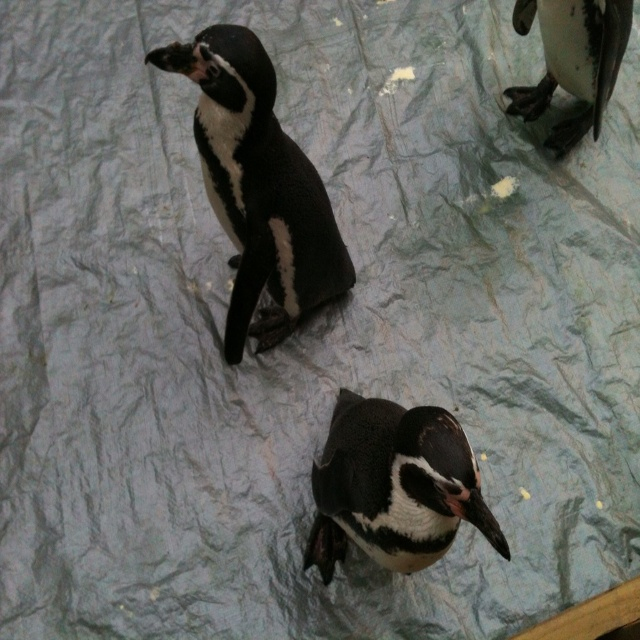Penguin: (143, 23, 353, 362), (297, 394, 503, 580), (507, 0, 636, 160)
